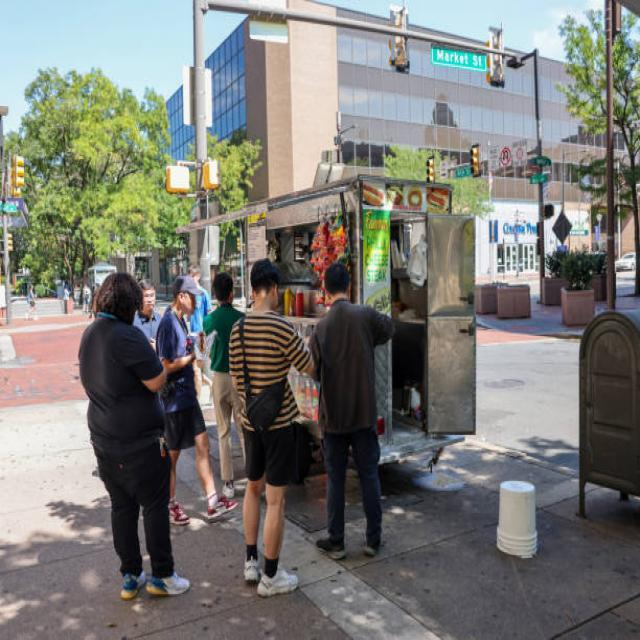Emperan: (138, 154, 481, 510)
